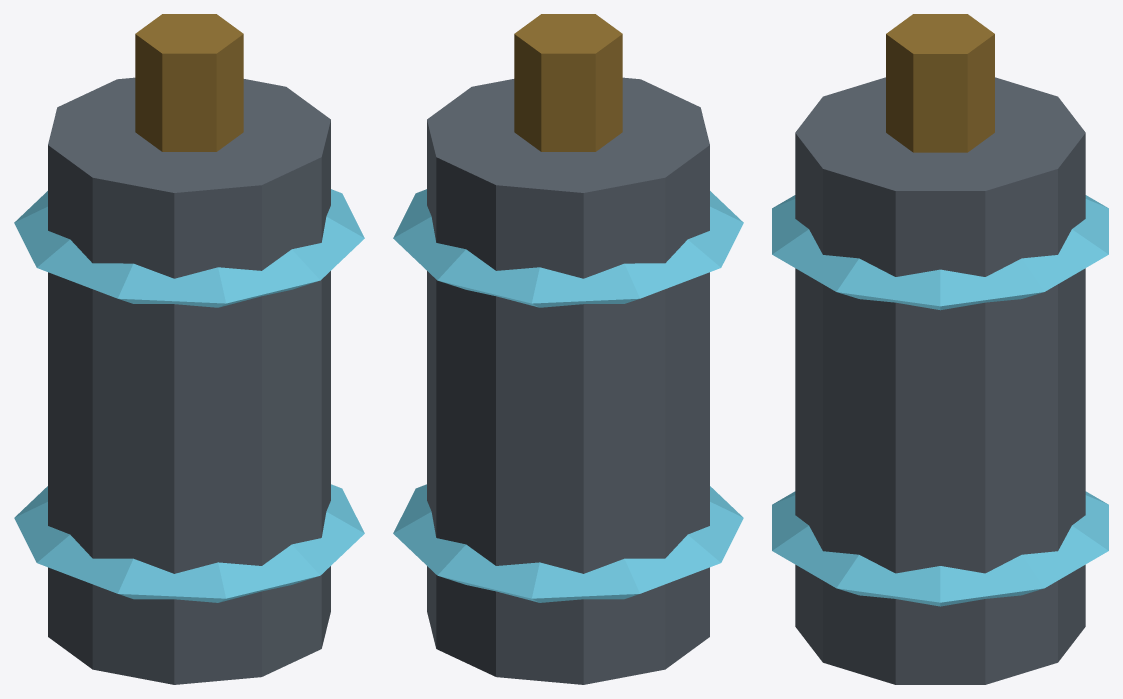
File: mod-cell.glb
The picture shows the model from 3 angles, left to right: view 1: azimuth 30°, elevation 25°; view 2: azimuth 150°, elevation 25°; view 3: azimuth 270°, elevation 25°; orthographic projection.
Visible parts, largest first — view 1: m; view 2: m; view 3: m.
Part boxes in pixels (x1,y1,x2,y2): m: [14, 14, 364, 684]; m: [393, 14, 743, 684]; m: [772, 14, 1108, 684].
Size of the model in its own units: 0.0325 by 0.06 by 0.0309.
